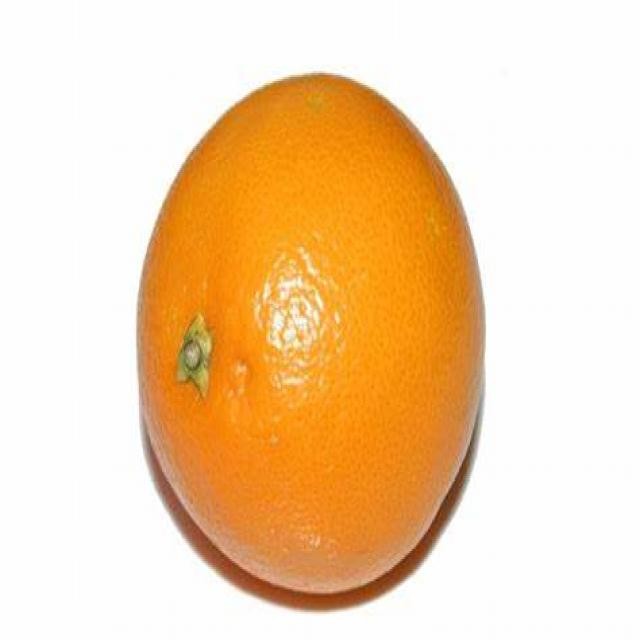Orange: (136, 76, 491, 597)
